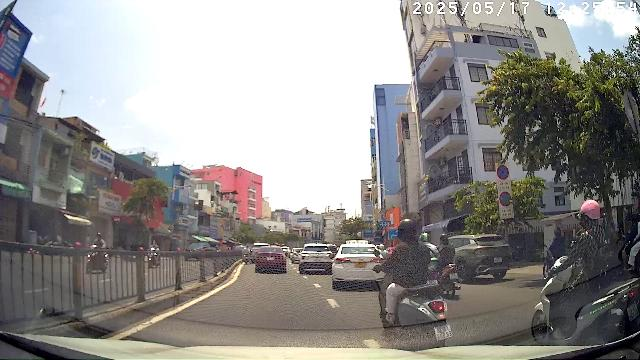130-cam-dung-va-do-xe: (497, 165, 509, 180)
131a-cam-do-xe: (499, 191, 511, 206)
